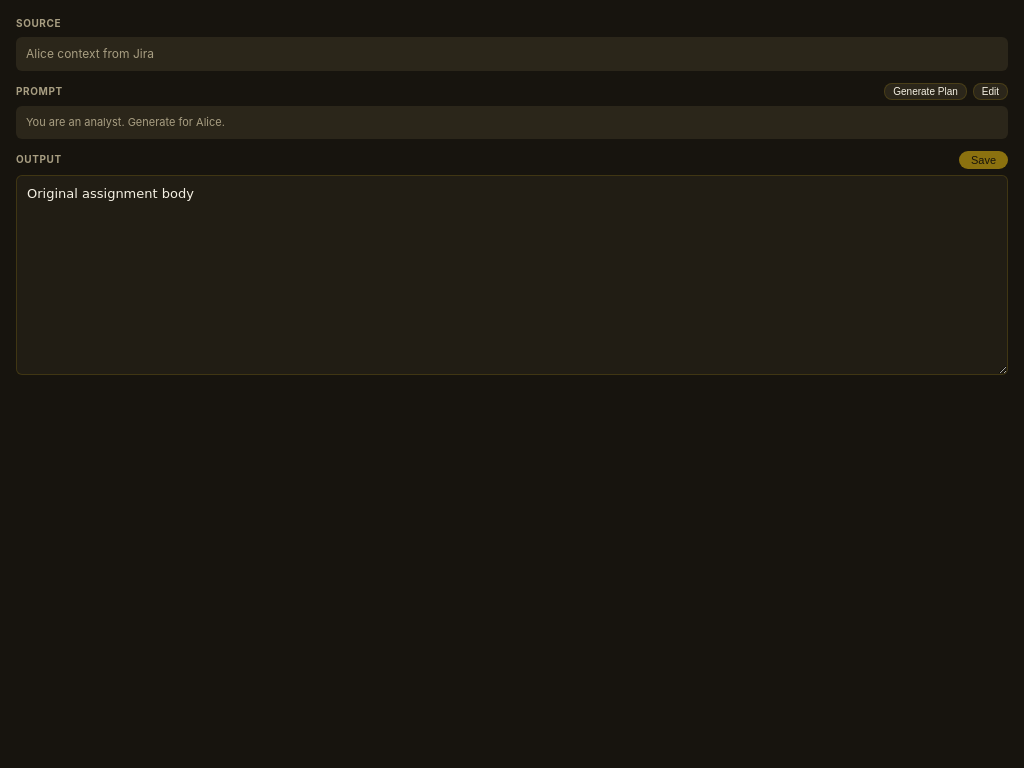
Test: PersonAssignmentDetail — prompt edit + modal › clicking Edit shows prompt textarea with current prompt
Click the button "Edit": x=990, y=92 [973,83,1008,100]
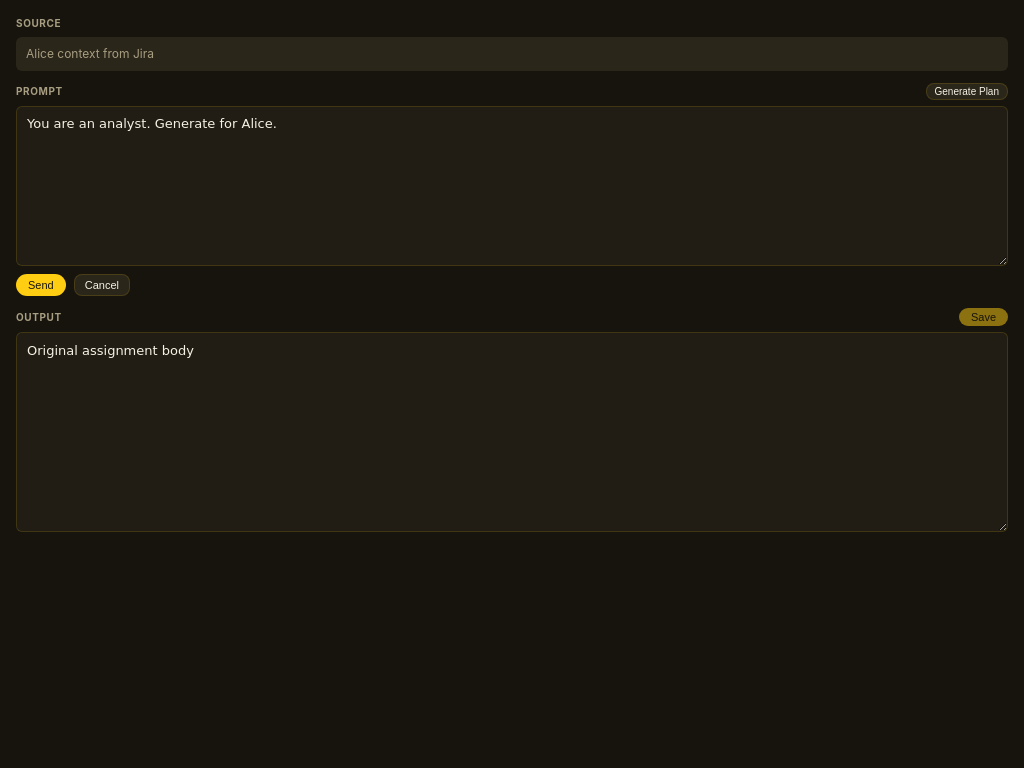
Result: the text box named "prompt" holds "You are an analyst. Generate for Alice." at [16,106,1008,266]
